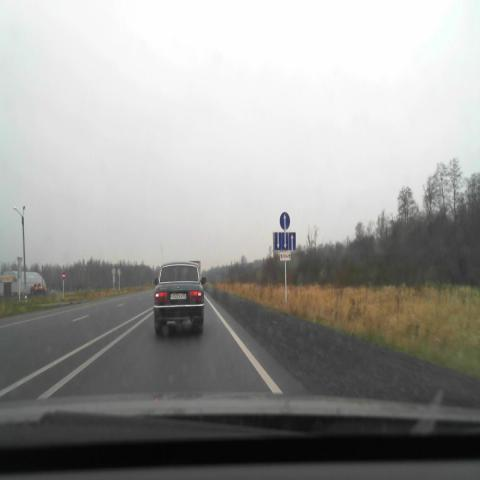5_15_7: (274, 232, 296, 251)
